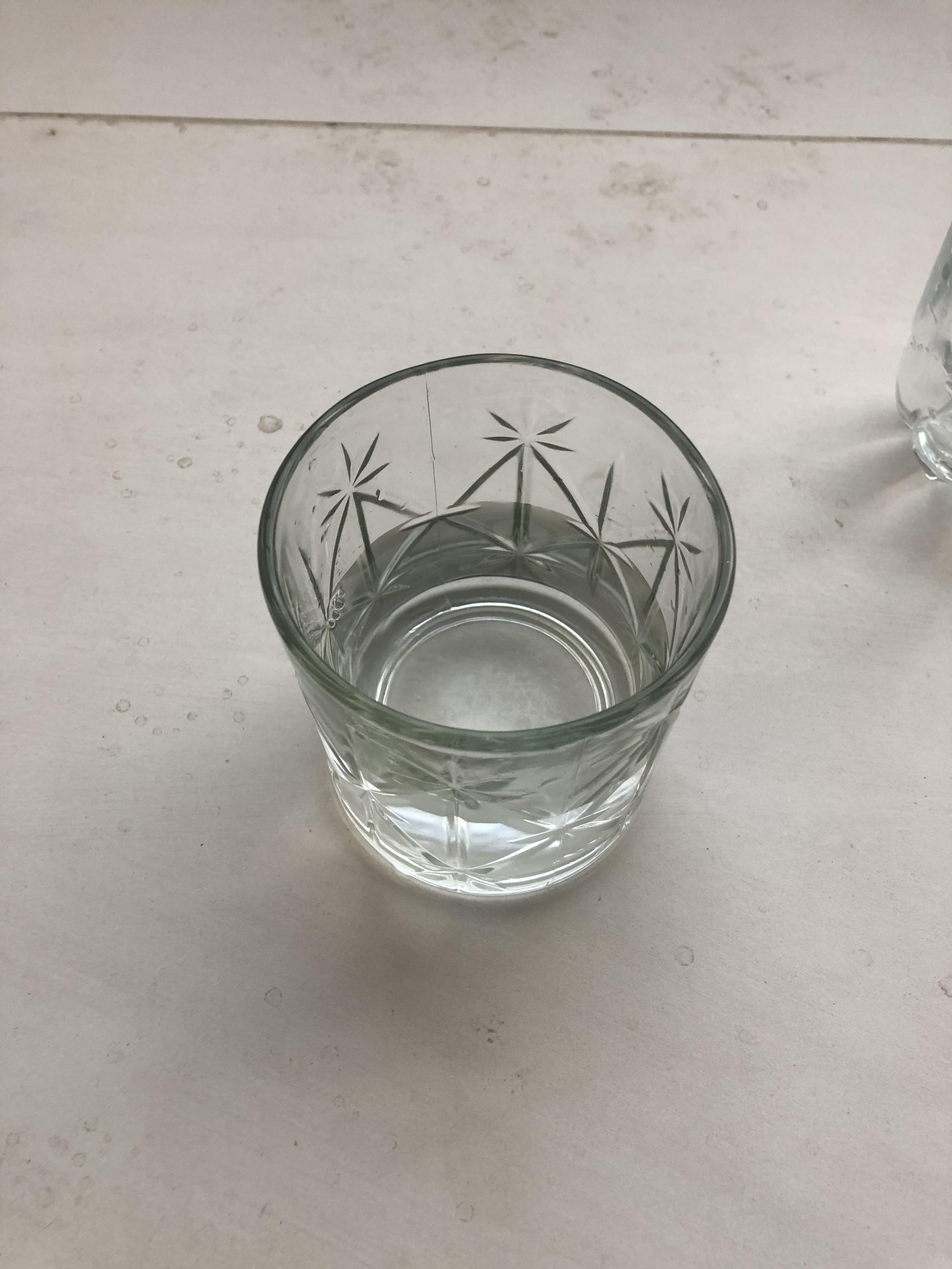glass-normal: (254, 349, 741, 909)
